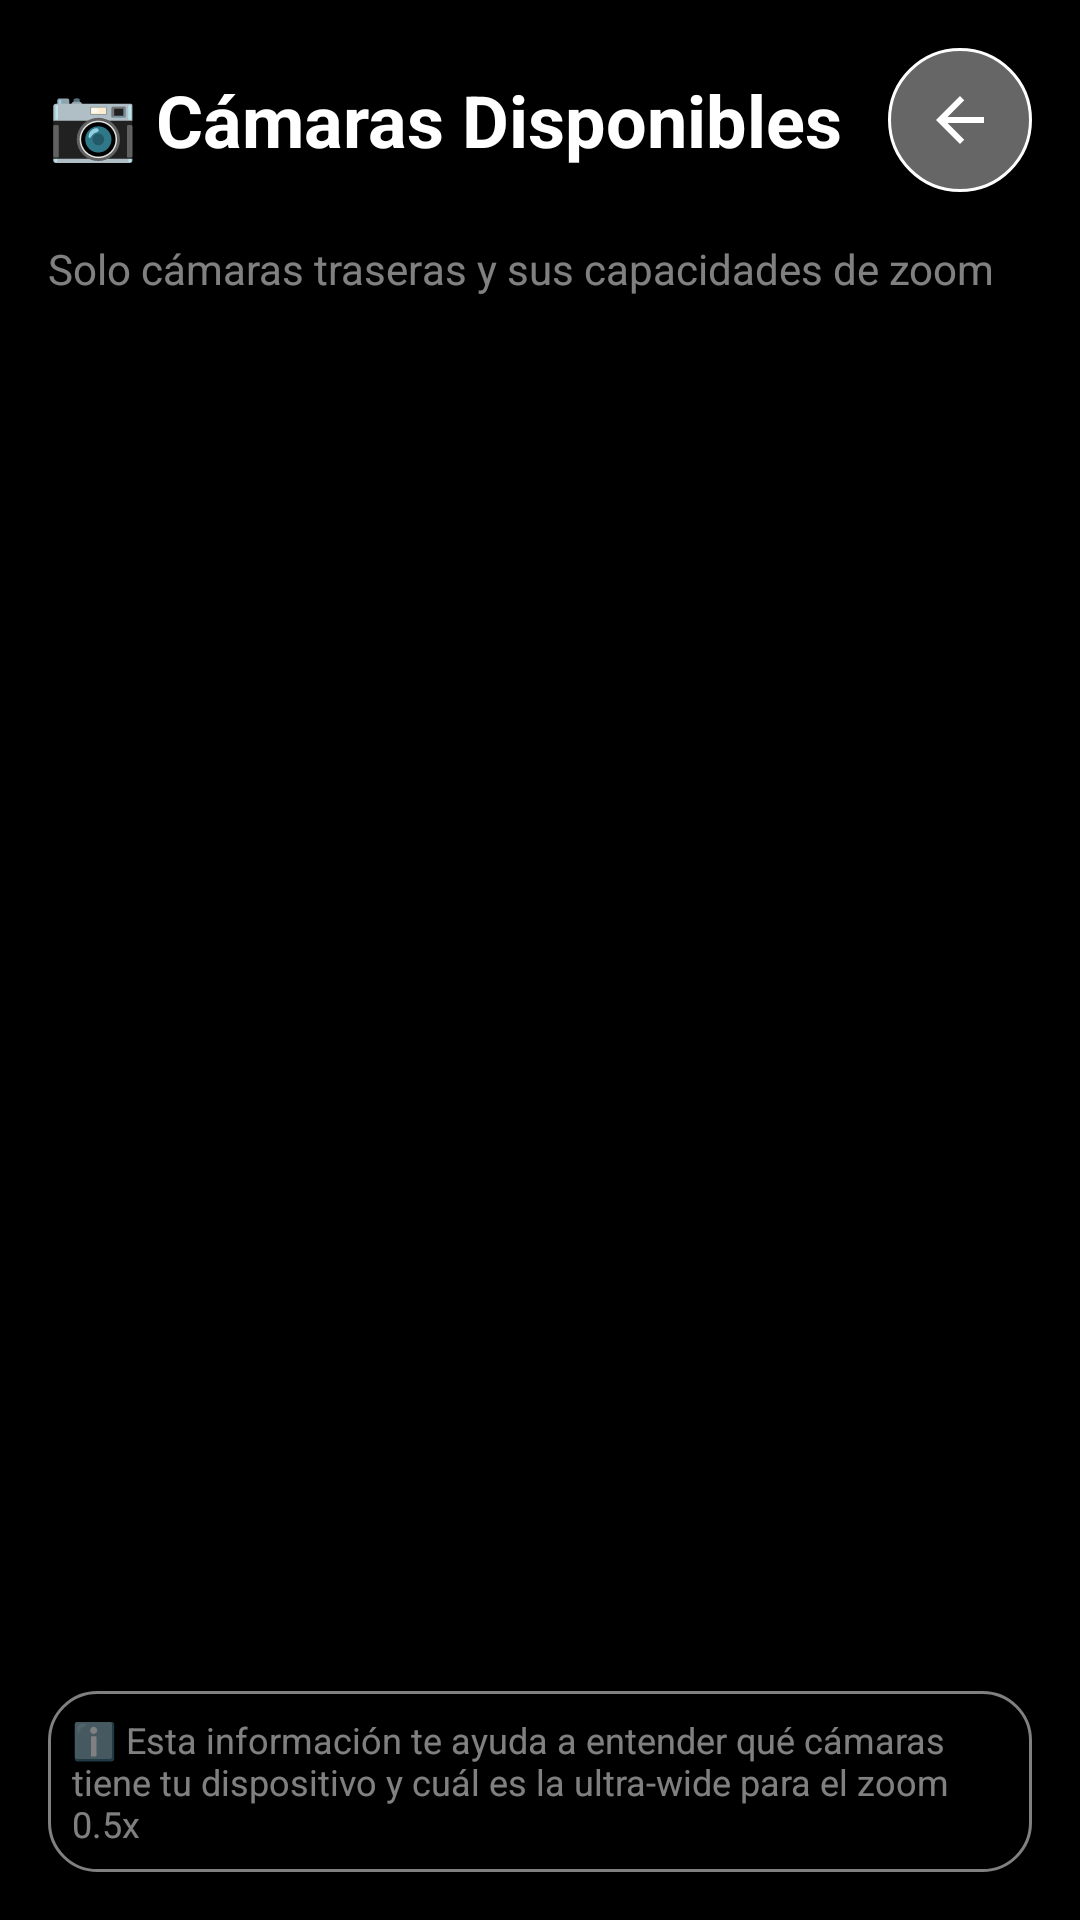

Where to tap for icons on this 1080px×1920px app screen, as [x,y]:
Volver: [960,120]
